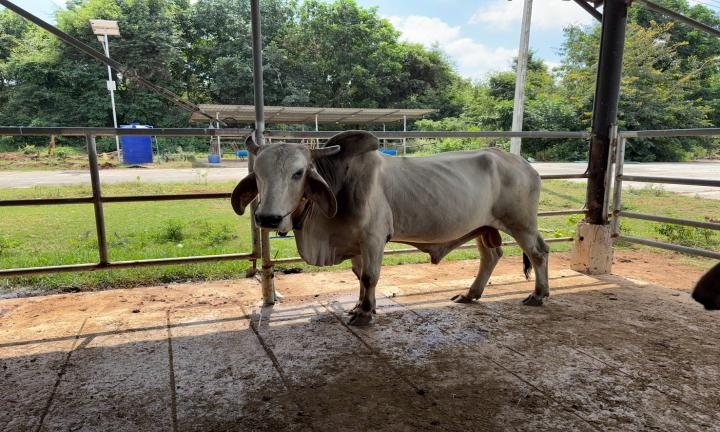Brahman: (231, 130, 549, 325)
